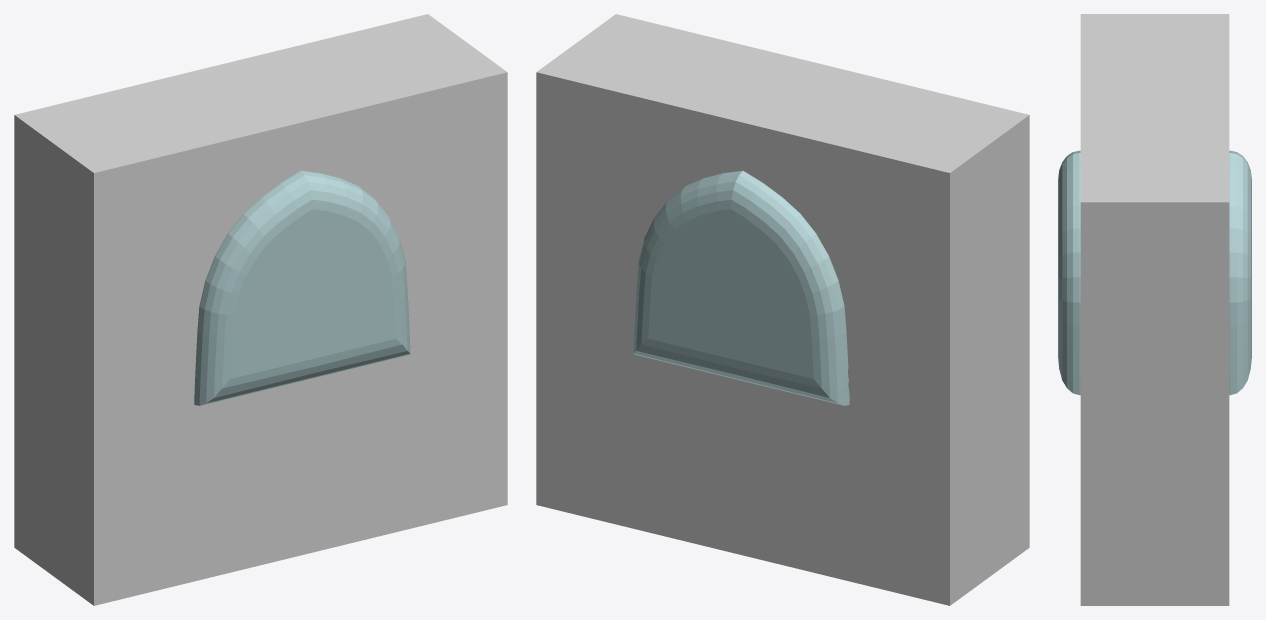
The model's file is Mutated_Generic_Wall_With_Window_002.fbx.
3 views of the same model, side by side, from view 1: azimuth 30°, elevation 25°; view 2: azimuth 150°, elevation 25°; view 3: azimuth 270°, elevation 25° (orthographic). The views are drawn at different scales.
Parts seen in each view (by area): view 1: Cube, Window; view 2: Cube, Window; view 3: Cube, Window.
Boxes of the visible parts, x1,y1,x2,y2 form: Cube: (14, 14, 507, 605); Window: (194, 170, 410, 405); Cube: (536, 14, 1029, 605); Window: (633, 170, 849, 405); Cube: (1080, 14, 1229, 605); Window: (1058, 150, 1251, 395).
Size of the model in its own units: 300 by 300 by 131.
